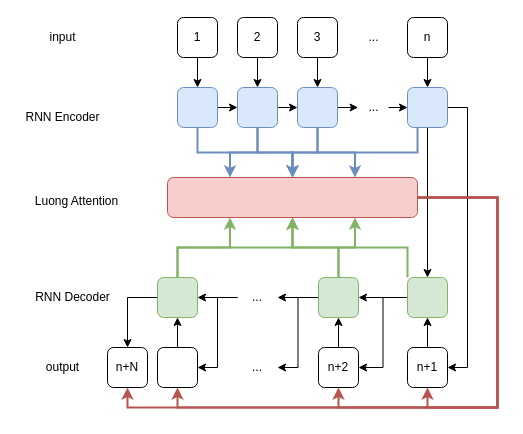
Some shapes in this 523 by 434 pixel diagram are drawn without their labels. Here are the shapes that lost their labels. From the top down, the centre of each, then its label:
At (292,197): "Attention".
At (177,367): "n+N-1".
